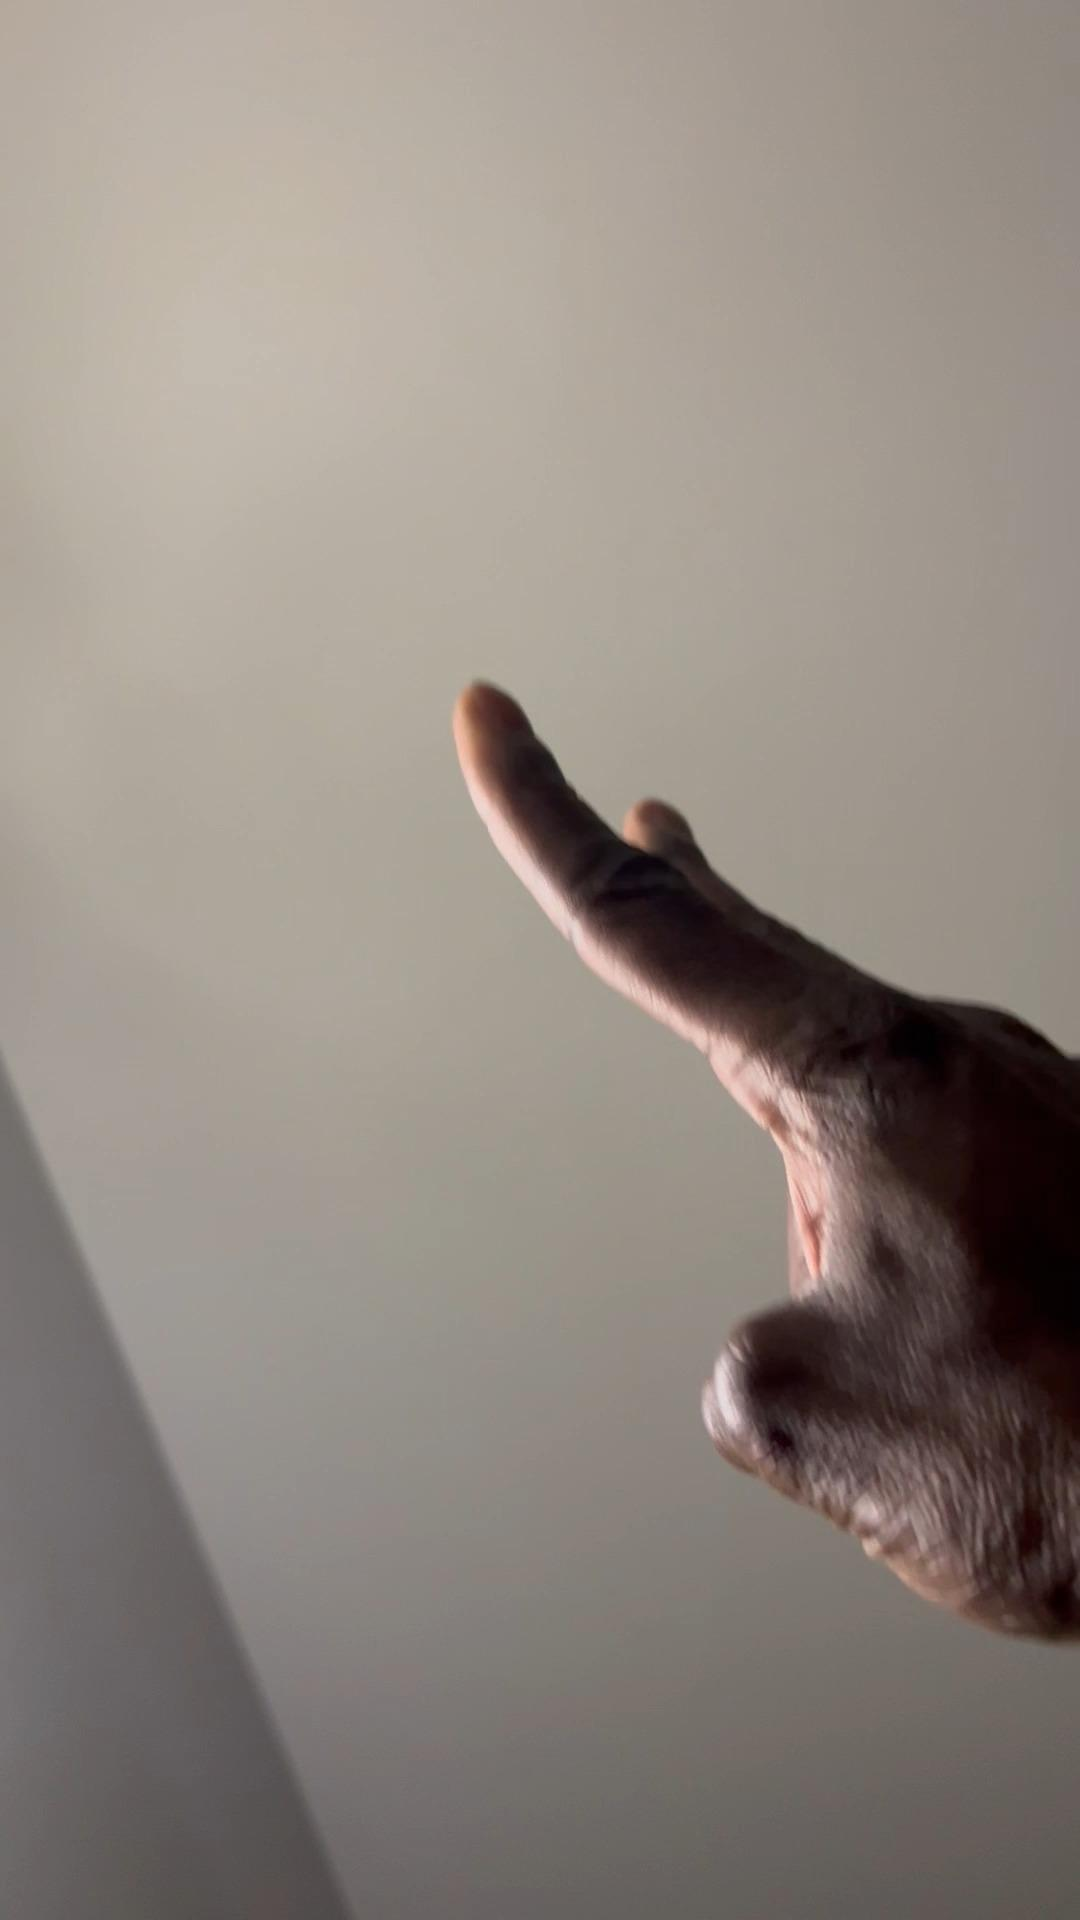Scissors: (450, 670, 1080, 1644)
